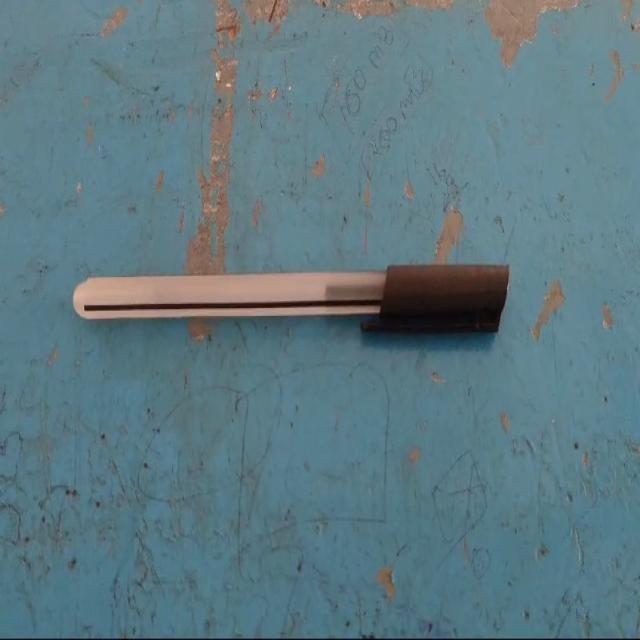pen: (35, 214, 558, 416)
